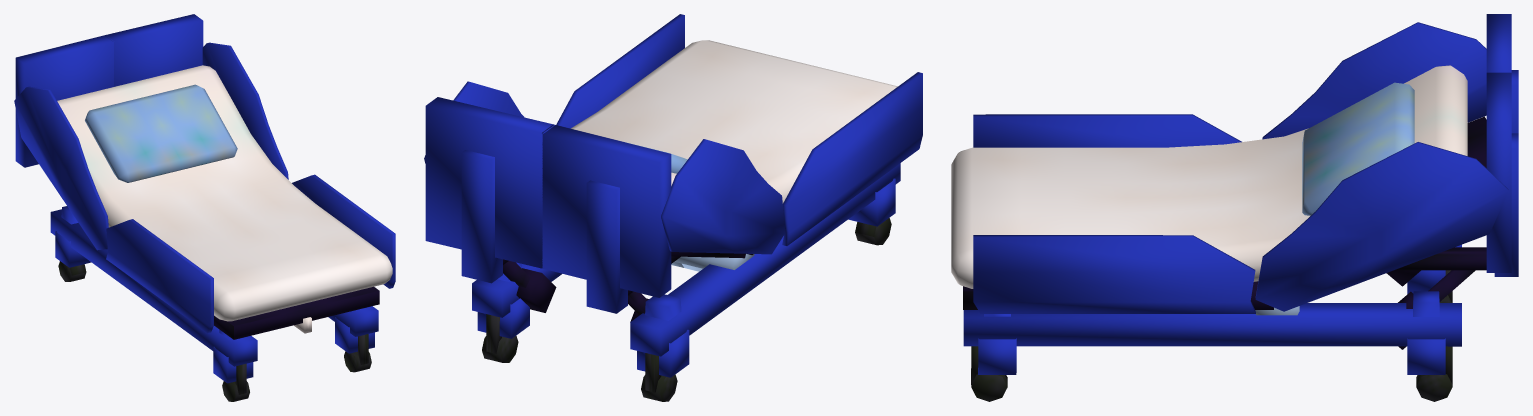
File: MacaHospitalar.fbx
The picture shows the model from 3 angles, left to right: view 1: azimuth 30°, elevation 25°; view 2: azimuth 150°, elevation 25°; view 3: azimuth 270°, elevation 25°; orthographic projection. The views are drawn at different scales.
Parts seen in each view (by area): view 1: MacaHospitalar; view 2: MacaHospitalar; view 3: MacaHospitalar.
Part boxes in pixels (x1=…): MacaHospitalar: x1=14, y1=14, x2=395, y2=401; MacaHospitalar: x1=424, y1=14, x2=922, y2=401; MacaHospitalar: x1=951, y1=14, x2=1518, y2=401.
Bounding box in the file's own units: 121 × 130 × 234.
1 material, 1 textured.
